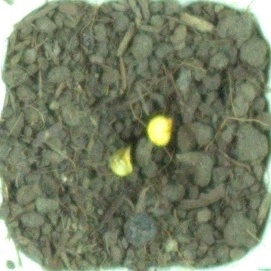pepper seed: (57, 39, 233, 187), (36, 53, 172, 230)
